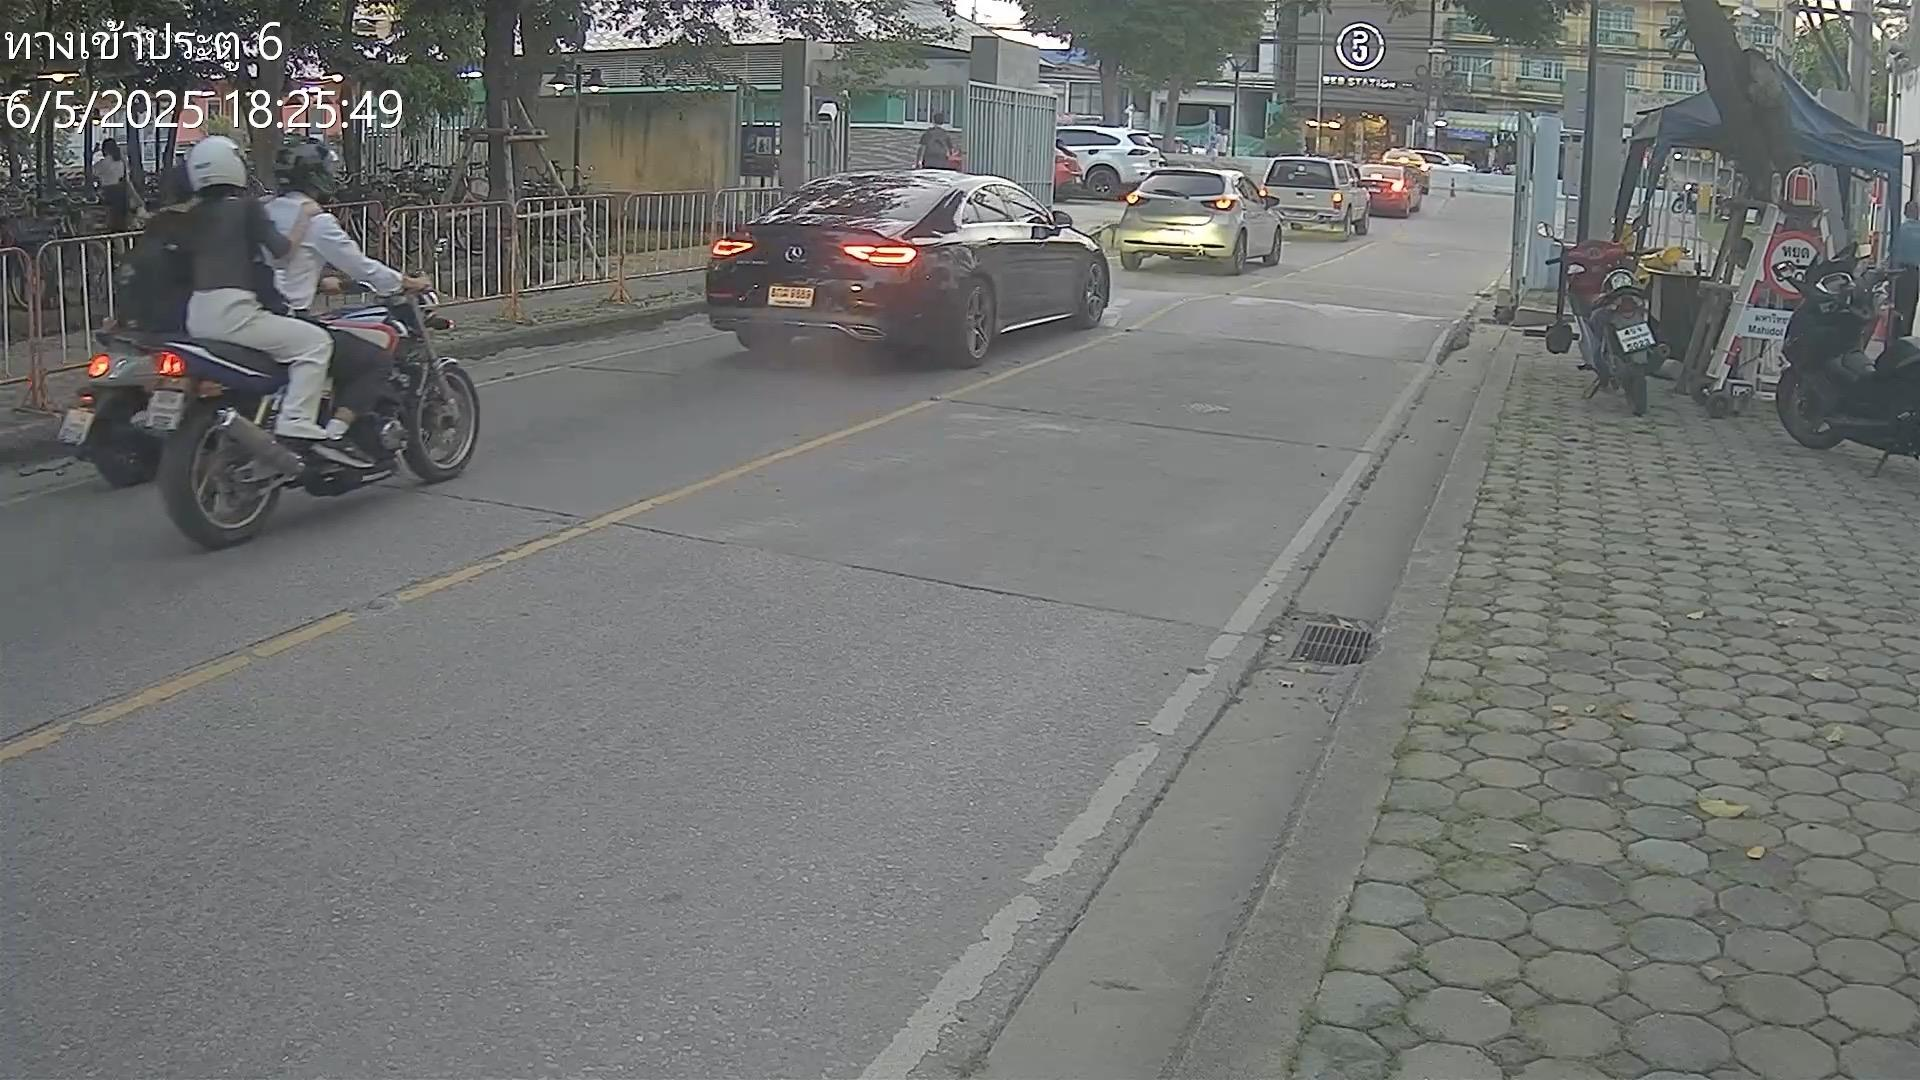With-Helmet: (273, 135, 351, 200), (187, 133, 252, 191)
